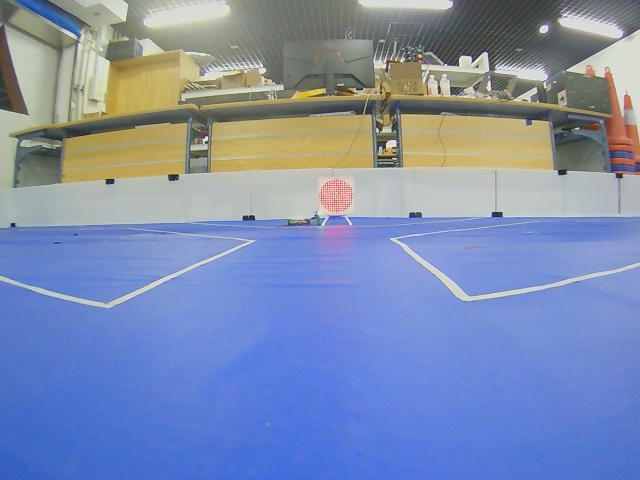red: (319, 178, 354, 214)
